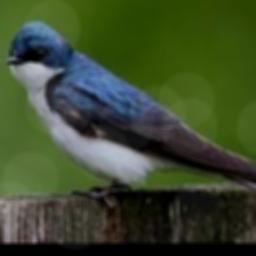Swallow: (5, 18, 256, 201)
